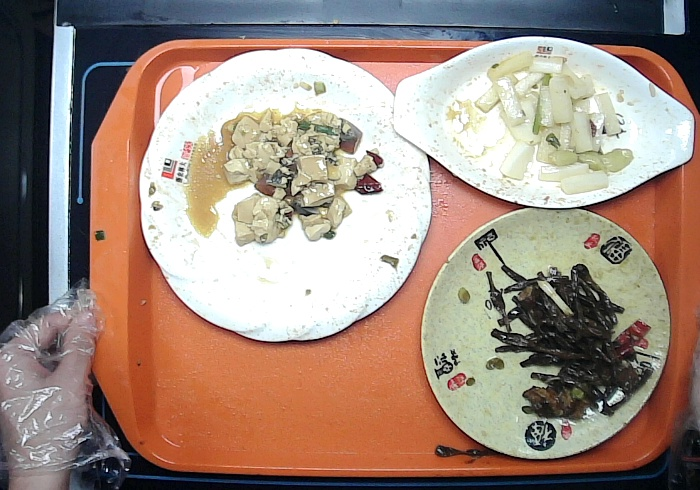NLDX-Bai_Zhe_Yuan_Pan: (132, 45, 439, 348)
NLDX-Fu_Zi_Yuan_Pan: (419, 201, 675, 468)
NLDX-Yu_Pan: (387, 33, 700, 214)
